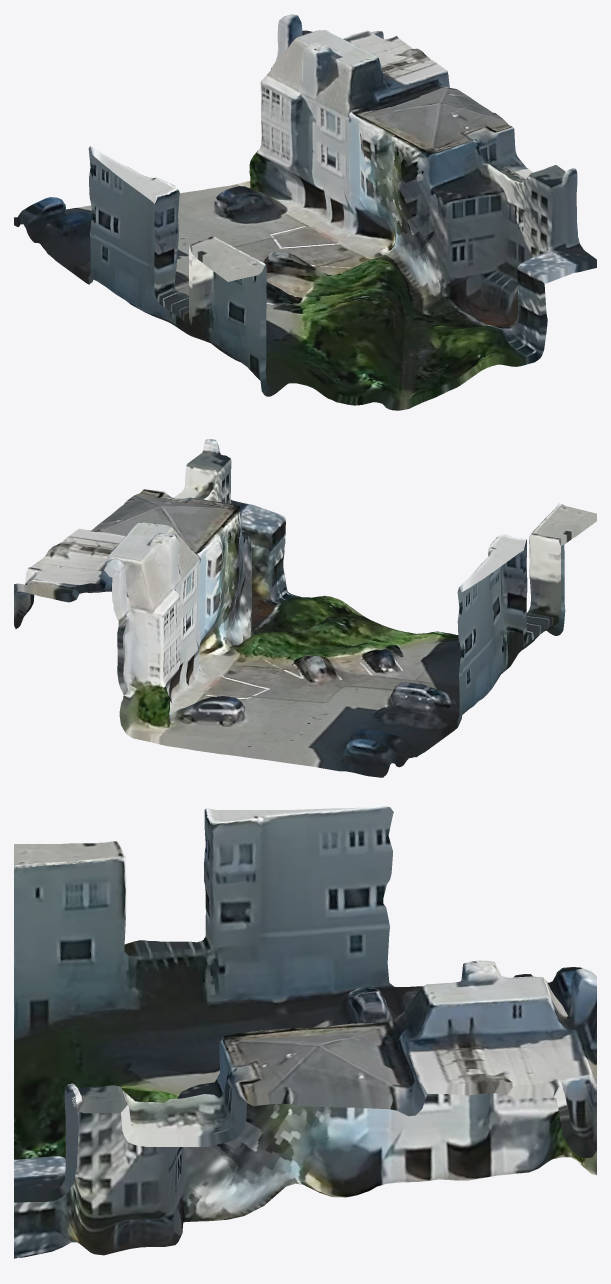
The model's file is z20-167718-405199-h0-yup-uvflip-v3-world.glb.
The picture shows the model from 3 angles, top to bottom: view 1: azimuth 30°, elevation 25°; view 2: azimuth 150°, elevation 25°; view 3: azimuth 270°, elevation 25°; orthographic projection. The views are drawn at different scales.
Size of the model in its own units: 30.16 by 17.16 by 30.32.
Materials: 1 (1 with a texture image).
